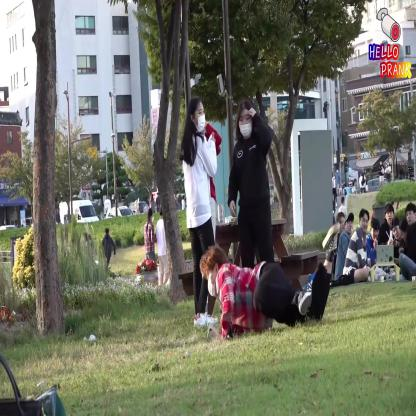Fall_Down: (201, 219, 341, 341)
